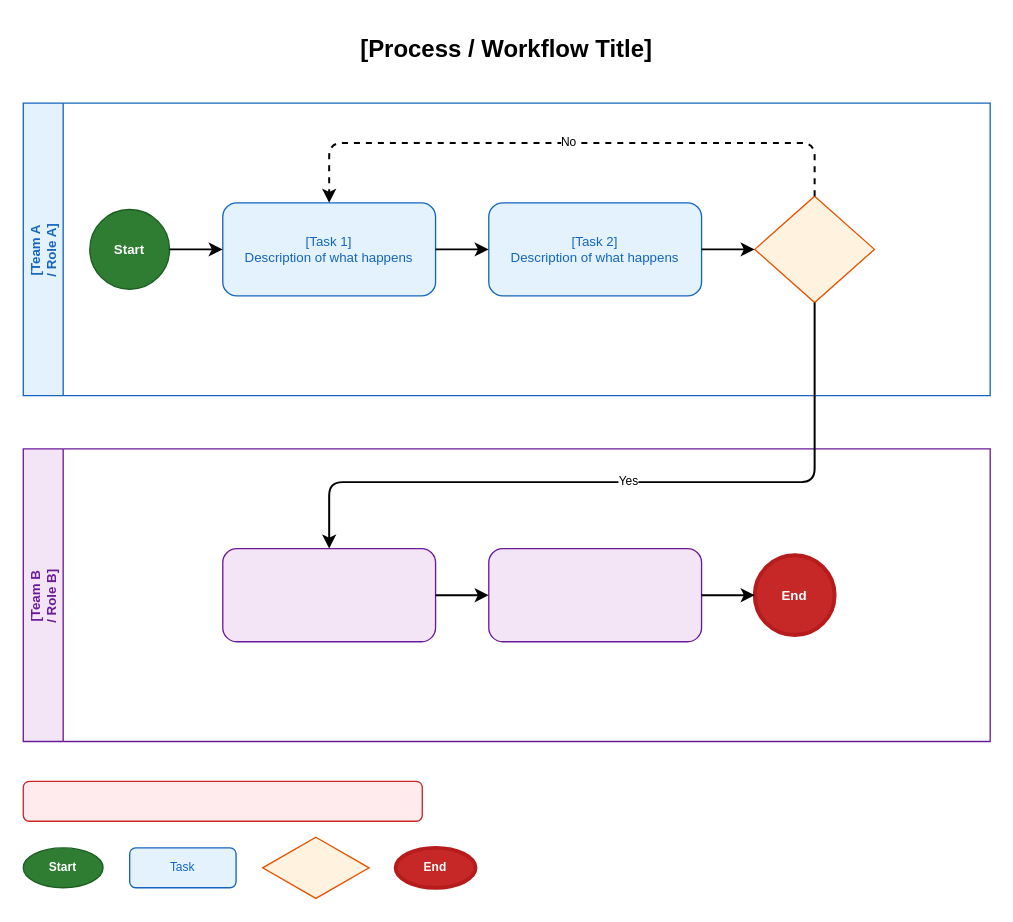
The diagram is 1013 pixels wide and 922 high, and some of its shapes have lost their labels. Here are the shapes that lost their labels. From the top down, the centre of each, then its label:
(x=813, y=249): [Decision?]
(x=328, y=594): [Task 3] Description of what happens
(x=594, y=594): [Task 4] Description of what happens
(x=222, y=800): [Add notes or annotations here]
(x=315, y=867): Decision
